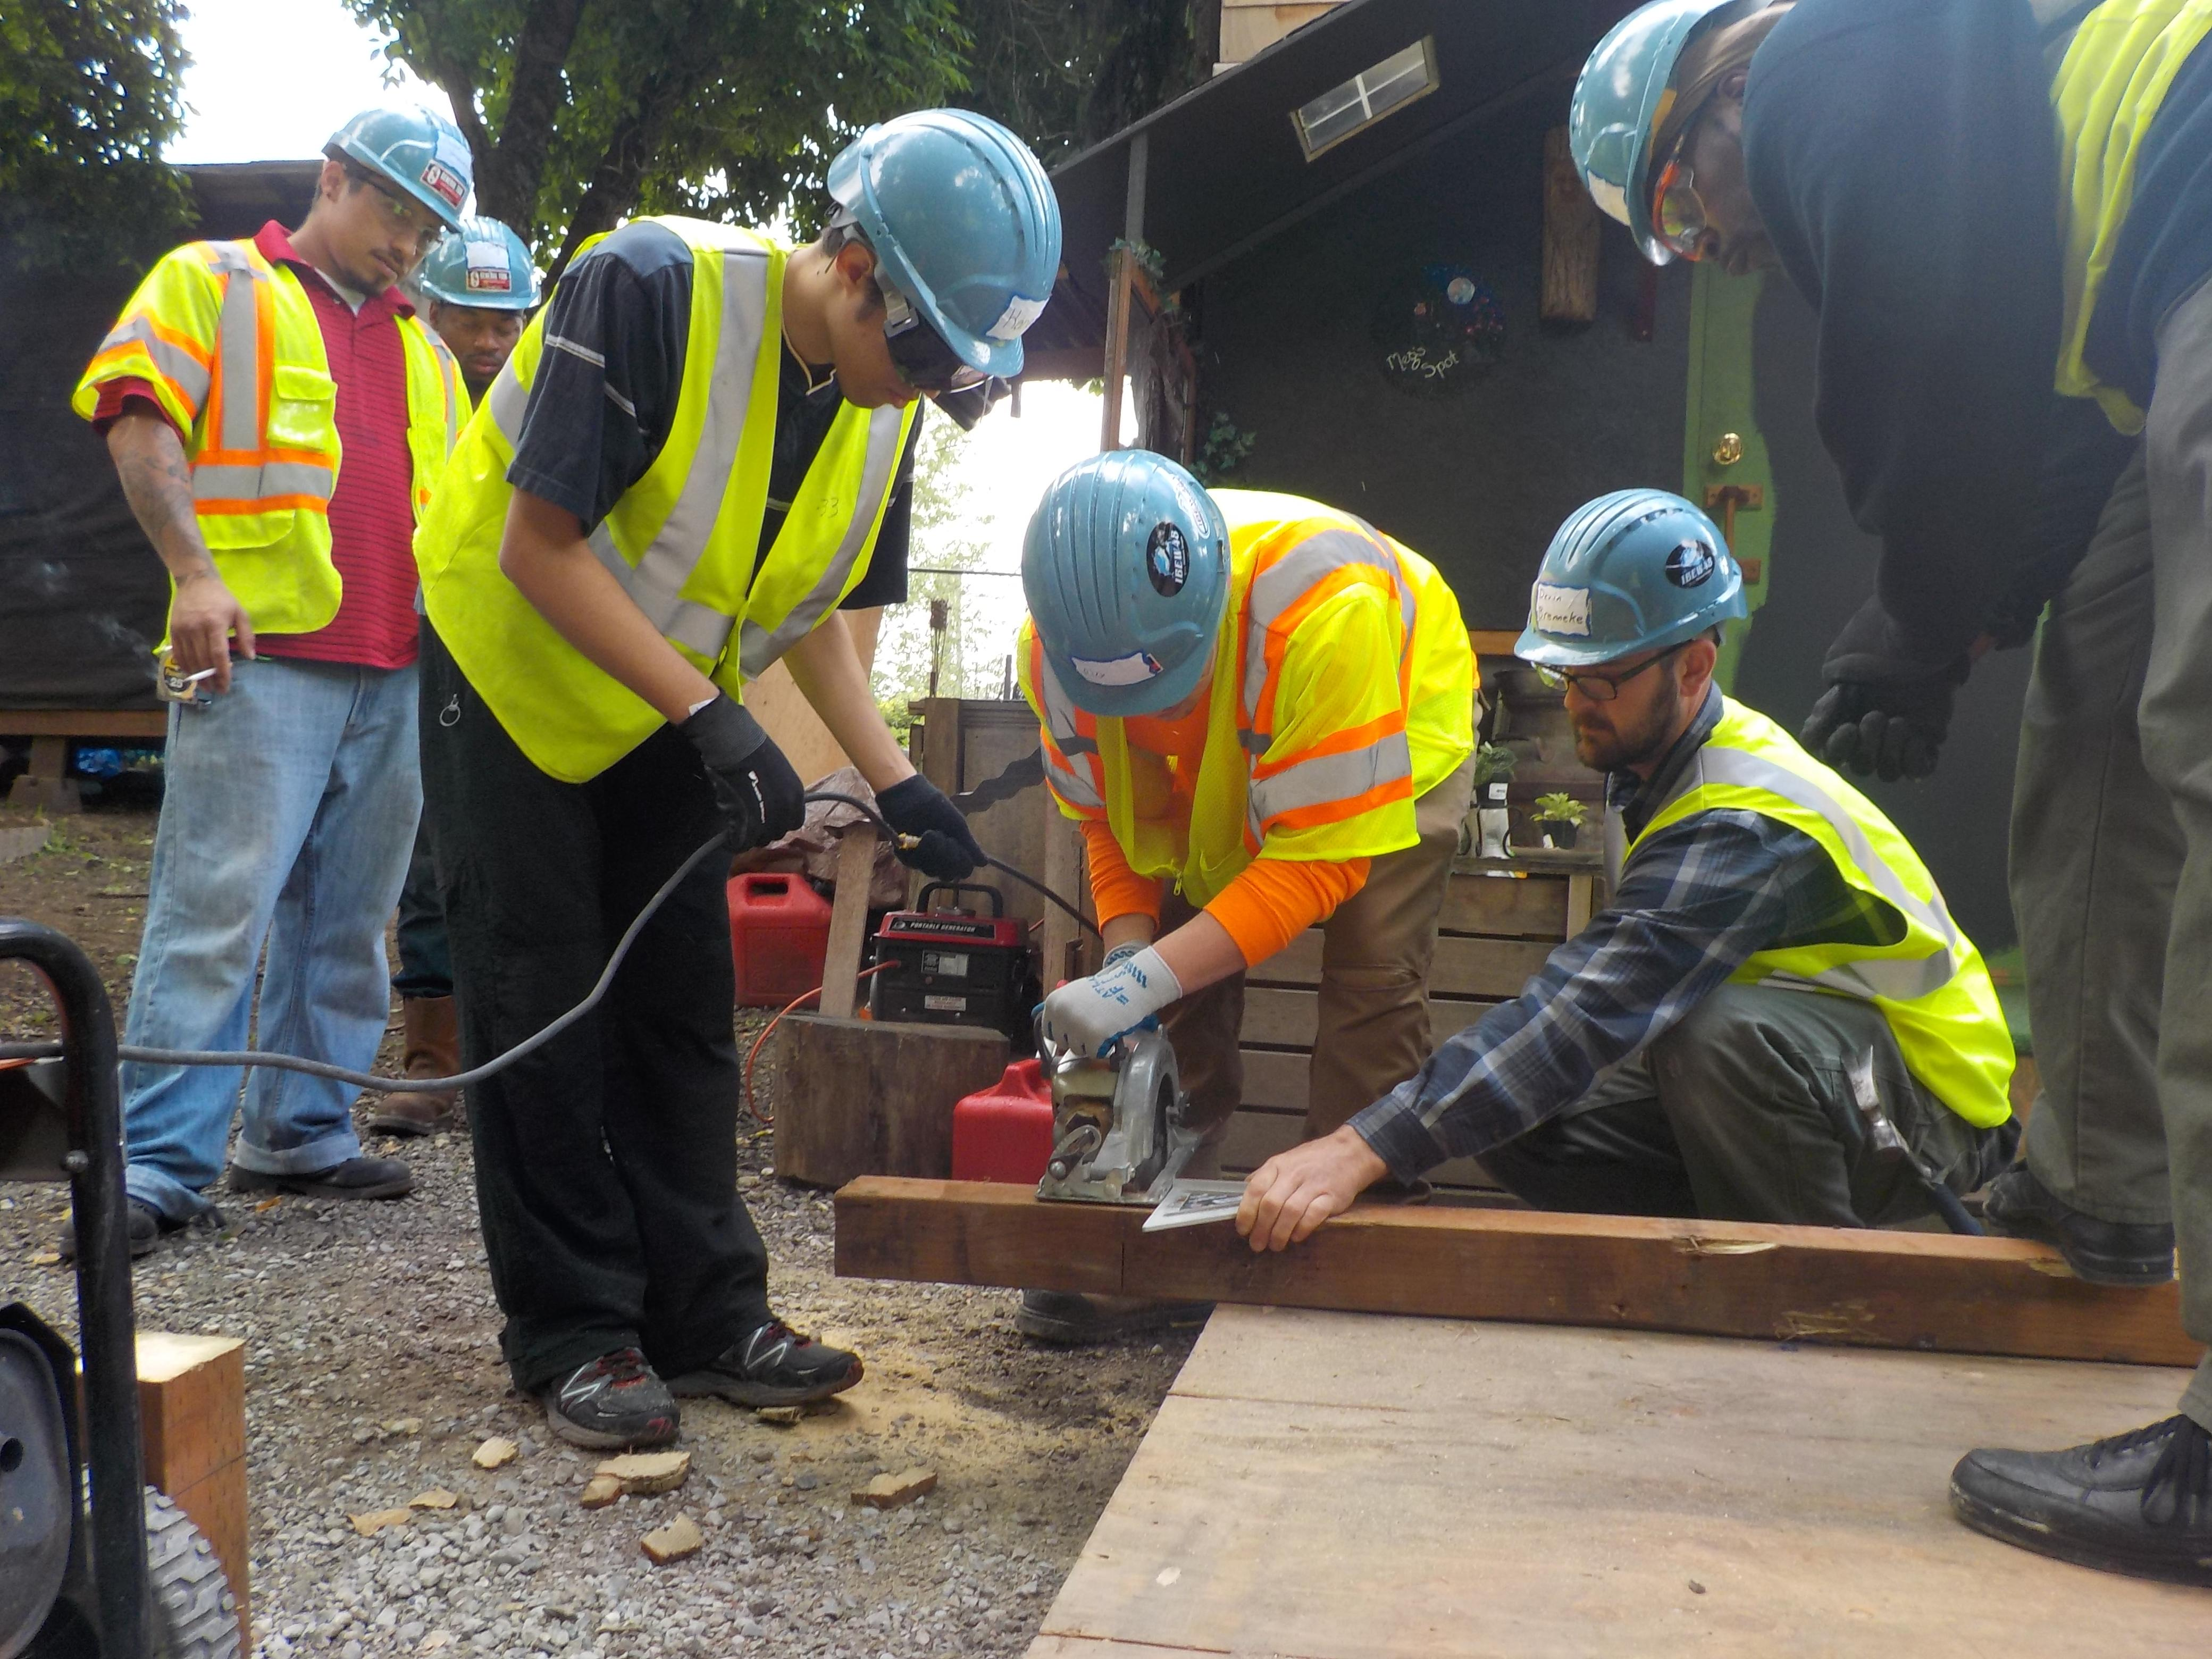helmet: (850, 106, 1073, 396), (1017, 448, 1226, 716), (1566, 0, 1770, 270), (1521, 484, 1752, 662), (333, 101, 472, 227), (427, 213, 549, 310)
